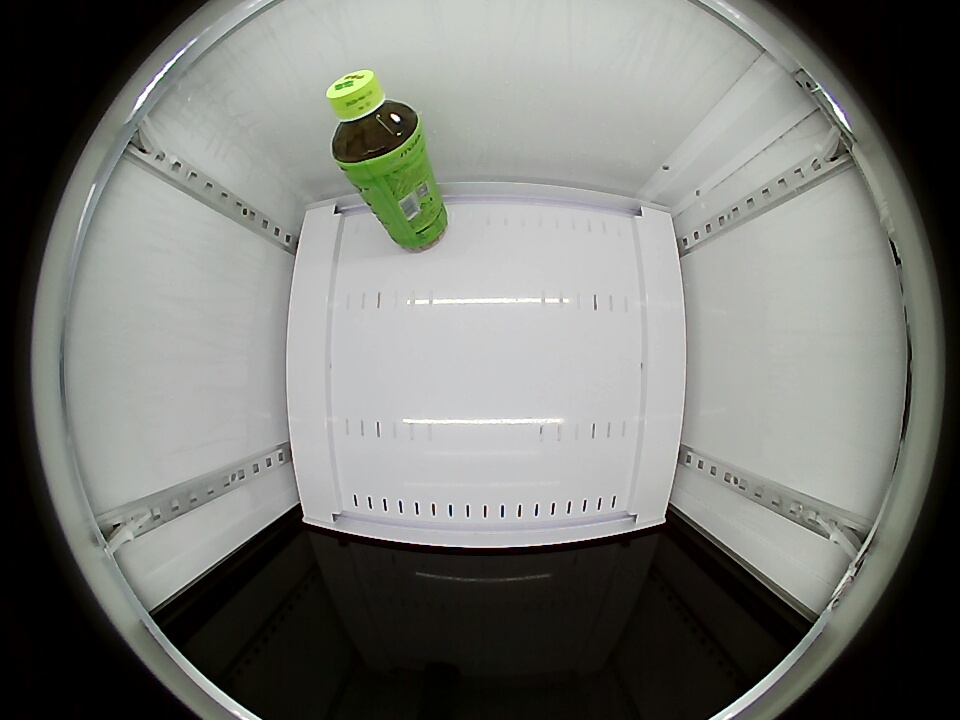yitengyuan: (327, 69, 422, 171)
